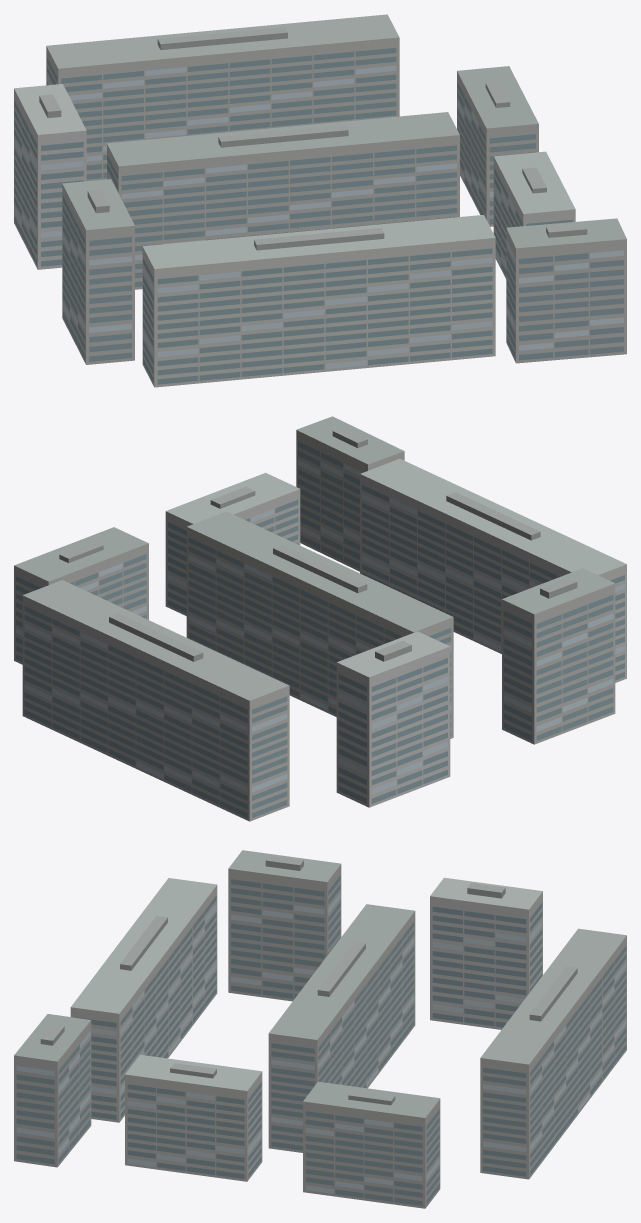
The model's file is apt-a10021705.glb.
The picture shows the model from 3 angles, top to bottom: view 1: azimuth 30°, elevation 25°; view 2: azimuth 150°, elevation 25°; view 3: azimuth 270°, elevation 25°; orthographic projection. The views are drawn at different scales.
Visible parts, largest first — view 1: apt-a10021705; view 2: apt-a10021705; view 3: apt-a10021705.
Boxes of the visible parts, x1,y1,x2,y2 form: apt-a10021705: [14, 14, 626, 387]; apt-a10021705: [14, 416, 626, 821]; apt-a10021705: [14, 850, 626, 1208].
Bounding box in the file's own units: 159 × 41 × 175.
